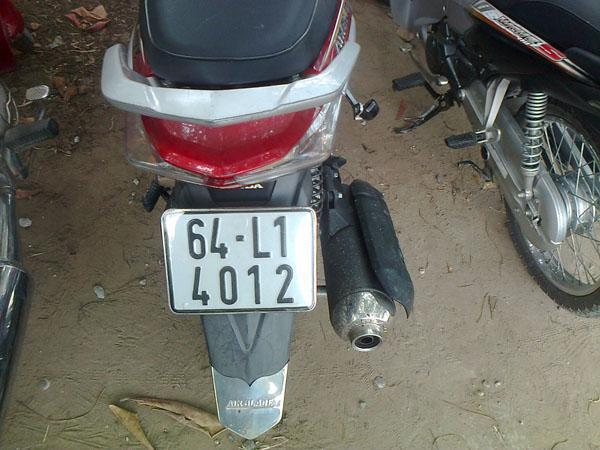License_Plate: (164, 211, 316, 314)
